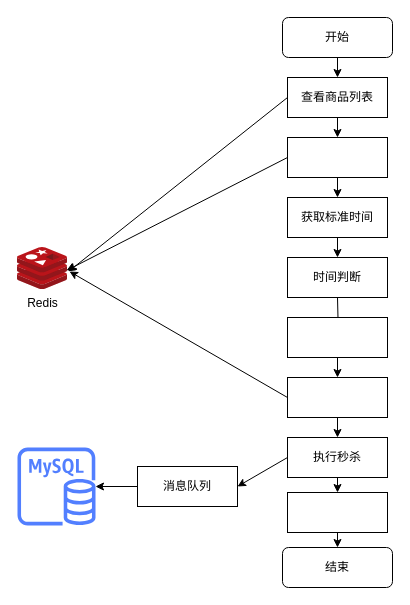
Image size: 410x605. Some labels were removed from this diagram. The shapes that lost their labels are listed below. From the top down, each one's box as (x1, y1, x2, y2) in pixels, then its label:
(286, 136, 388, 178): 查看商品详情
(286, 316, 388, 358): 秒杀进行中
(286, 376, 388, 418): 生成秒杀地址
(286, 492, 388, 532): 获得秒杀结果
